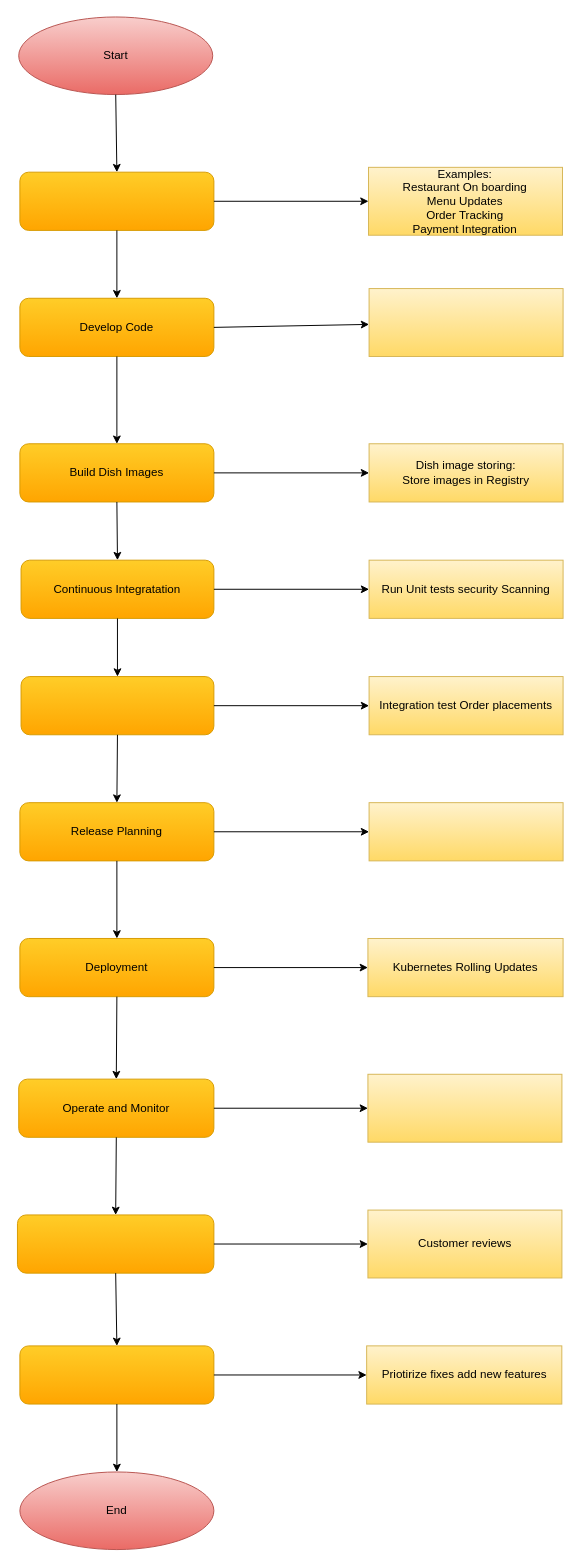
This 580x1567 diagram has some shape labels left out. Each missing label, with the box of its shape:
Automated testing: (20, 676, 214, 735)
Collect Feedback: (16, 1214, 214, 1273)
Maintenance: (19, 1345, 214, 1404)
Plan Features: (19, 171, 214, 230)
Services: User Services Order Services Payment Services Delivery Services: (368, 288, 563, 356)
Track delivery Items Update on payment Failures: (367, 1073, 562, 1142)
Using with QA: (368, 802, 563, 861)
